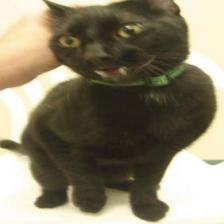cat: (34, 1, 204, 87)
